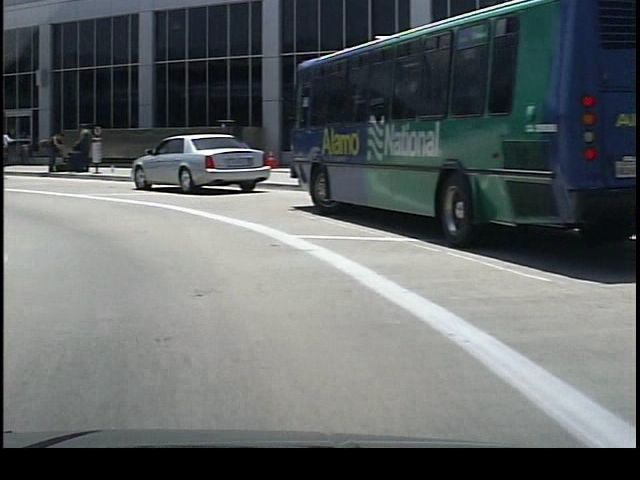person: (34, 125, 63, 179), (70, 123, 90, 177)
